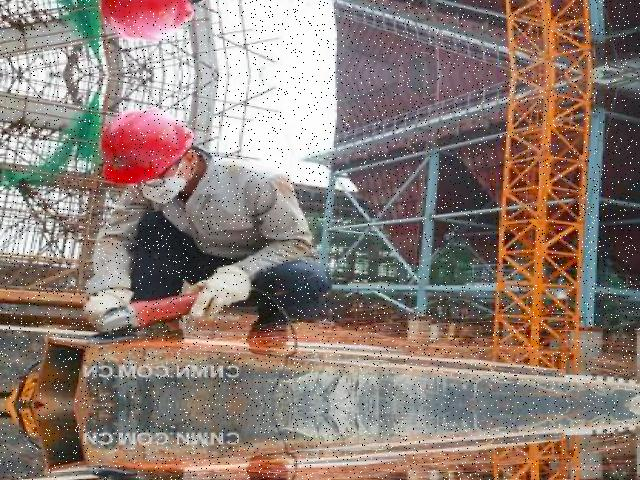Helmet: (97, 101, 198, 188)
